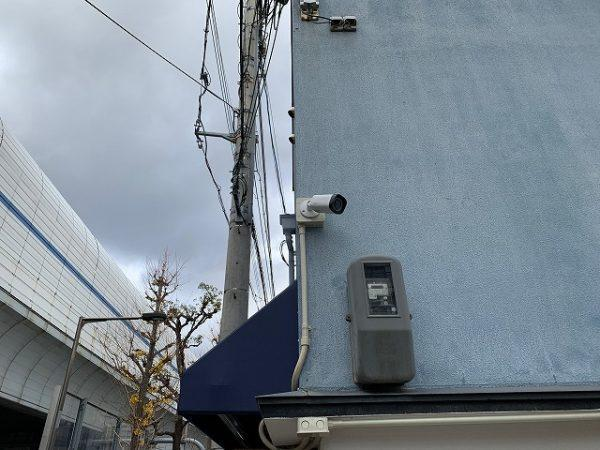tutu: (299, 187, 367, 236)
